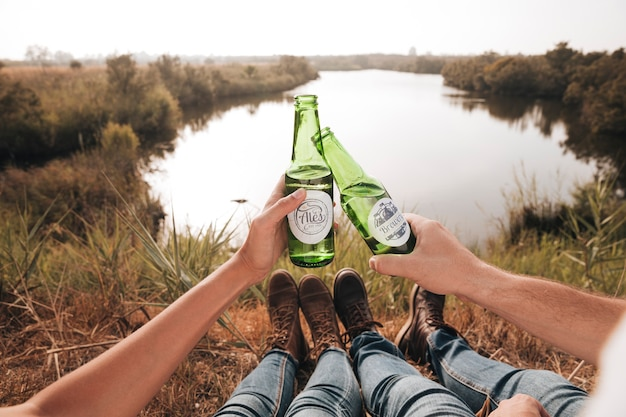alcohol: (309, 126, 418, 264), (288, 92, 337, 268)
